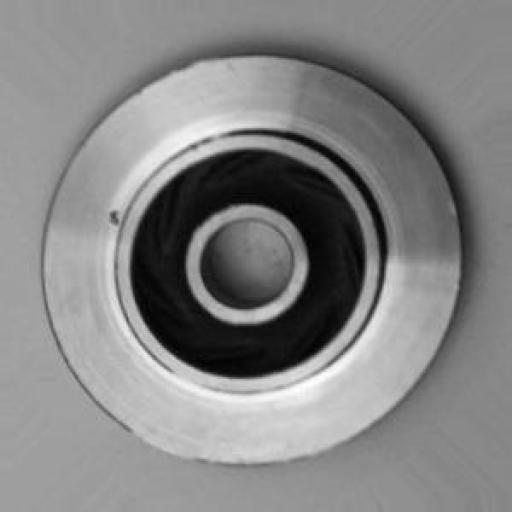defect: (84, 178, 138, 270)
